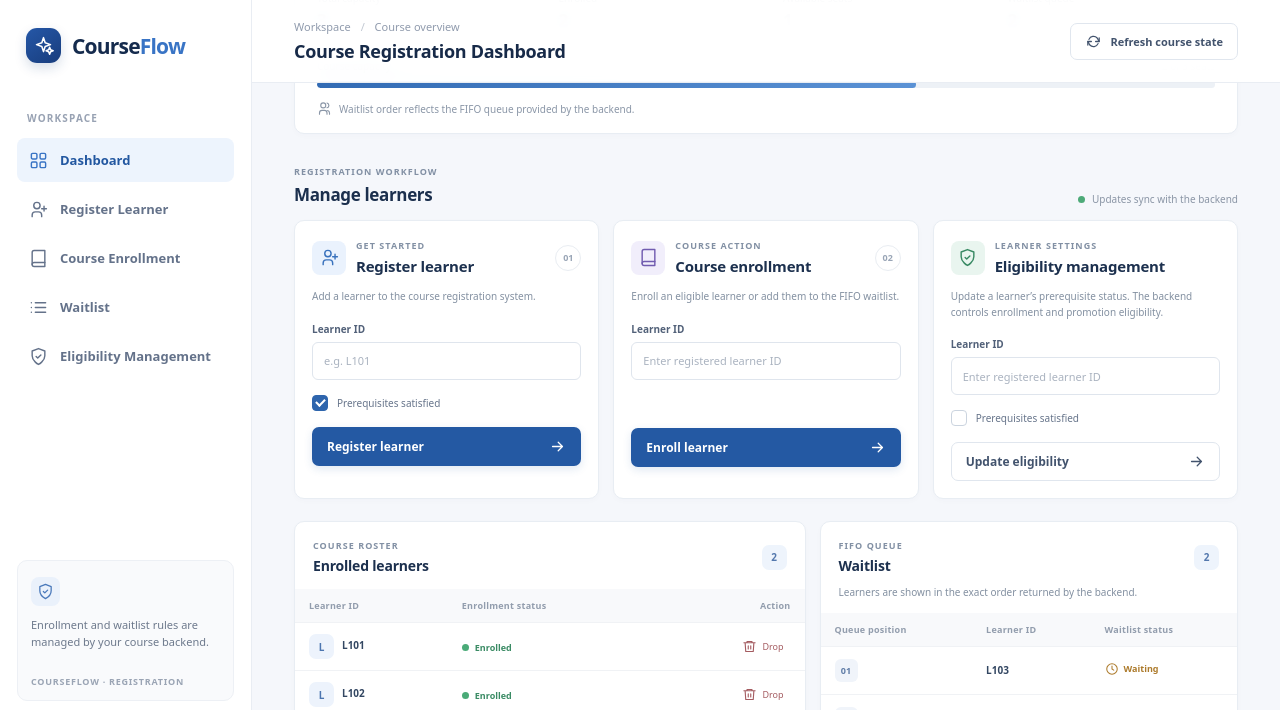
Test: CourseFlow dashboard › shows meaningful backend errors and disables repeated submissions while pending
Later steps or results of the test are not shown.
(page scrolled)
Type "L101" into the field labelled "Learner ID" below "COURSE ACTION". click: (766, 360)
box: left=631, top=342, right=901, bottom=380
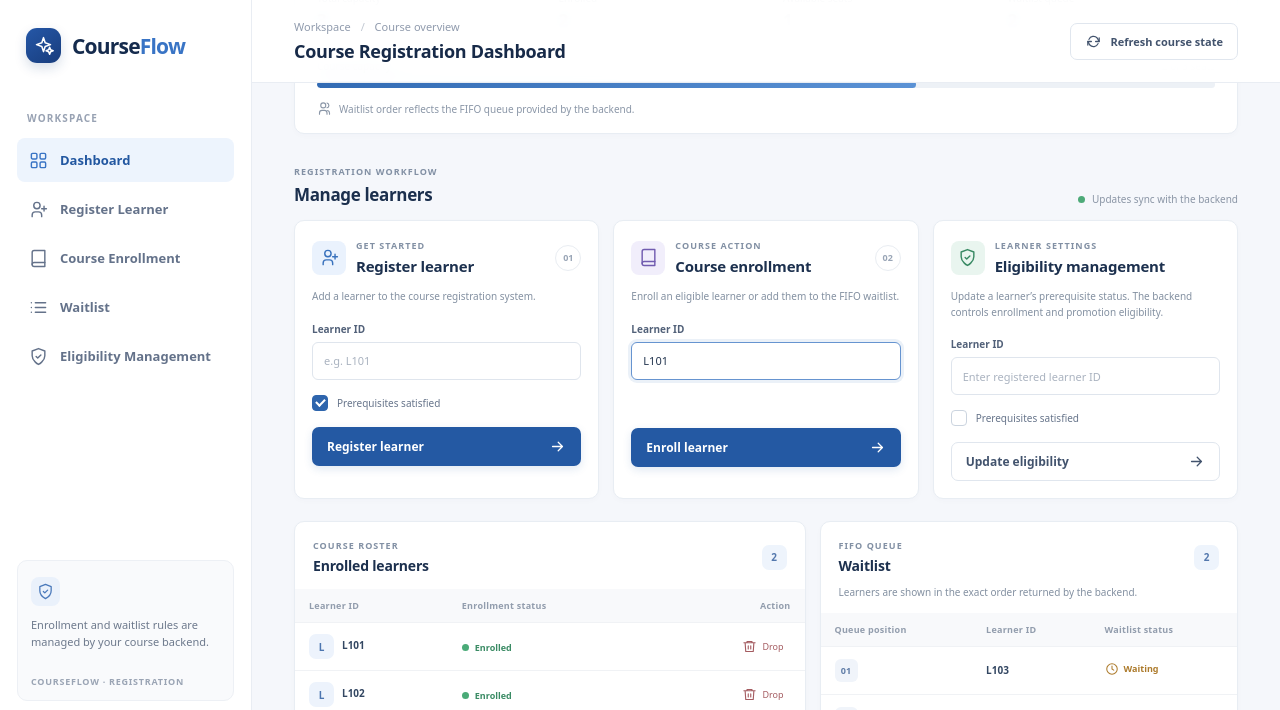
Click the button "Enroll learner". click: (687, 447)
box: left=631, top=428, right=901, bottom=466
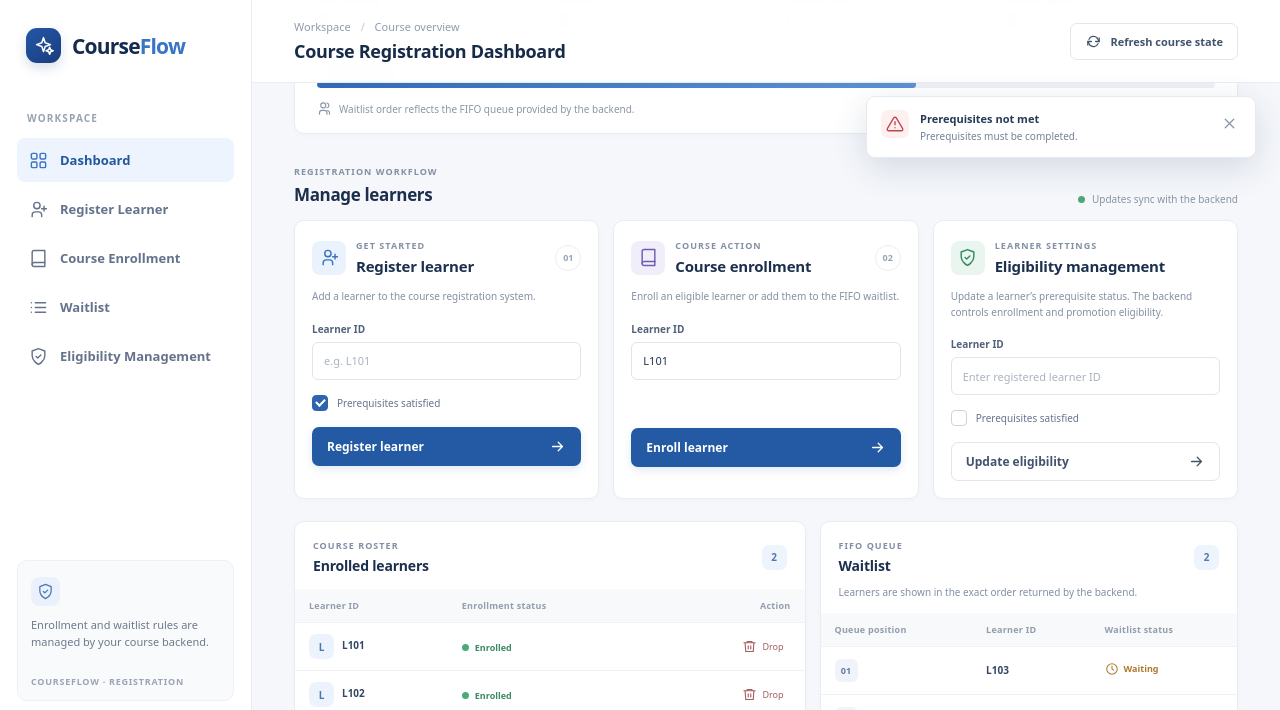
Result: the text "Prerequisites must be completed." is shown at left=920, top=129, right=1078, bottom=143
